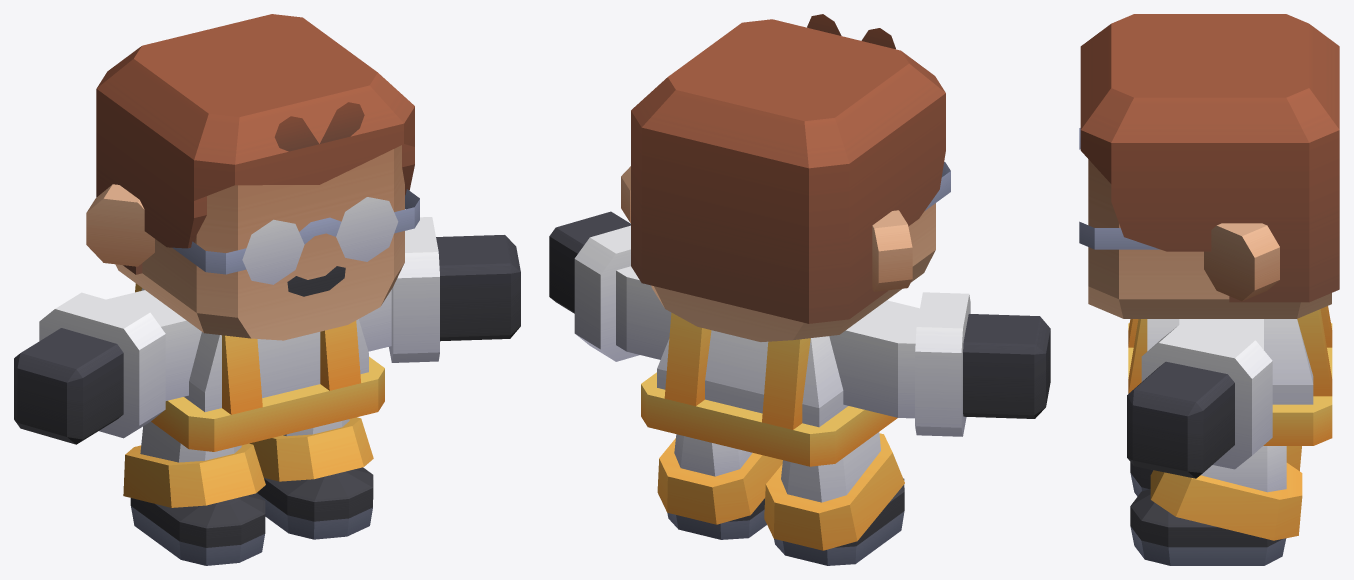
The model's file is CustomerD.obj.
The picture shows the model from 3 angles, left to right: view 1: azimuth 30°, elevation 25°; view 2: azimuth 150°, elevation 25°; view 3: azimuth 270°, elevation 25°; orthographic projection. The views are drawn at different scales.
Parts seen in each view (by area): view 1: body-mesh; view 2: body-mesh; view 3: body-mesh.
Part boxes in pixels (box(x1,y1,x2,y2)): body-mesh: box(14, 14, 520, 565); body-mesh: box(549, 14, 1050, 565); body-mesh: box(1079, 14, 1339, 565).
Bounding box in the file's own units: 0.7672 × 0.676 × 0.342.
Materials: 1 (1 with a texture image).
